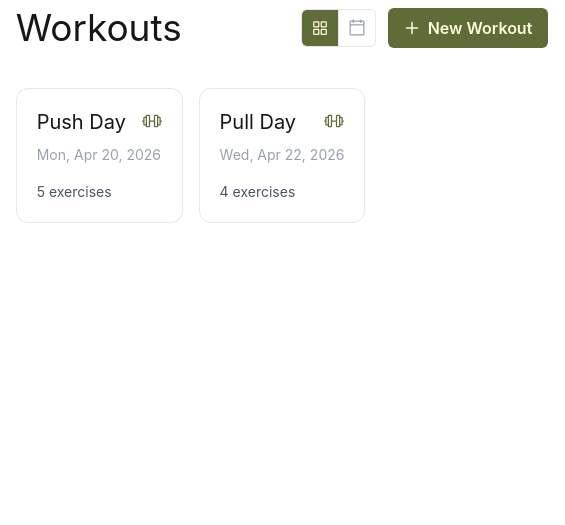
Test case: WorkoutsView — calendar view › switches to calendar view and shows day-of-week headers
The width and height of the screenshot is (565, 525).
Step 1. Click the button named "Calendar view" → click(356, 28), box 338,10 -> 375,46
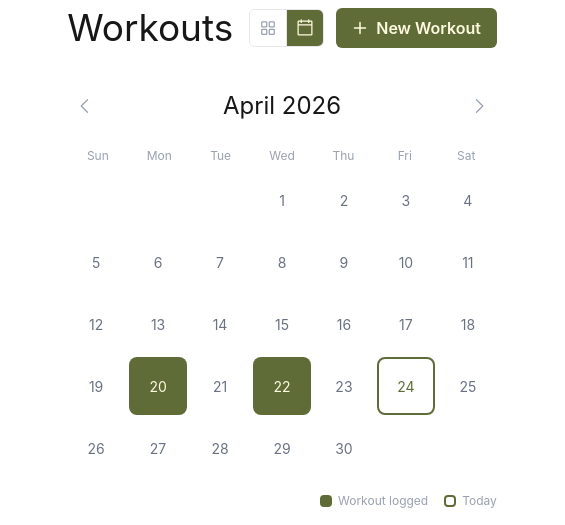
Now the text "Sun" is shown, box 87,148 -> 109,162
Now the text "Sat" is shown, box 457,148 -> 475,162
